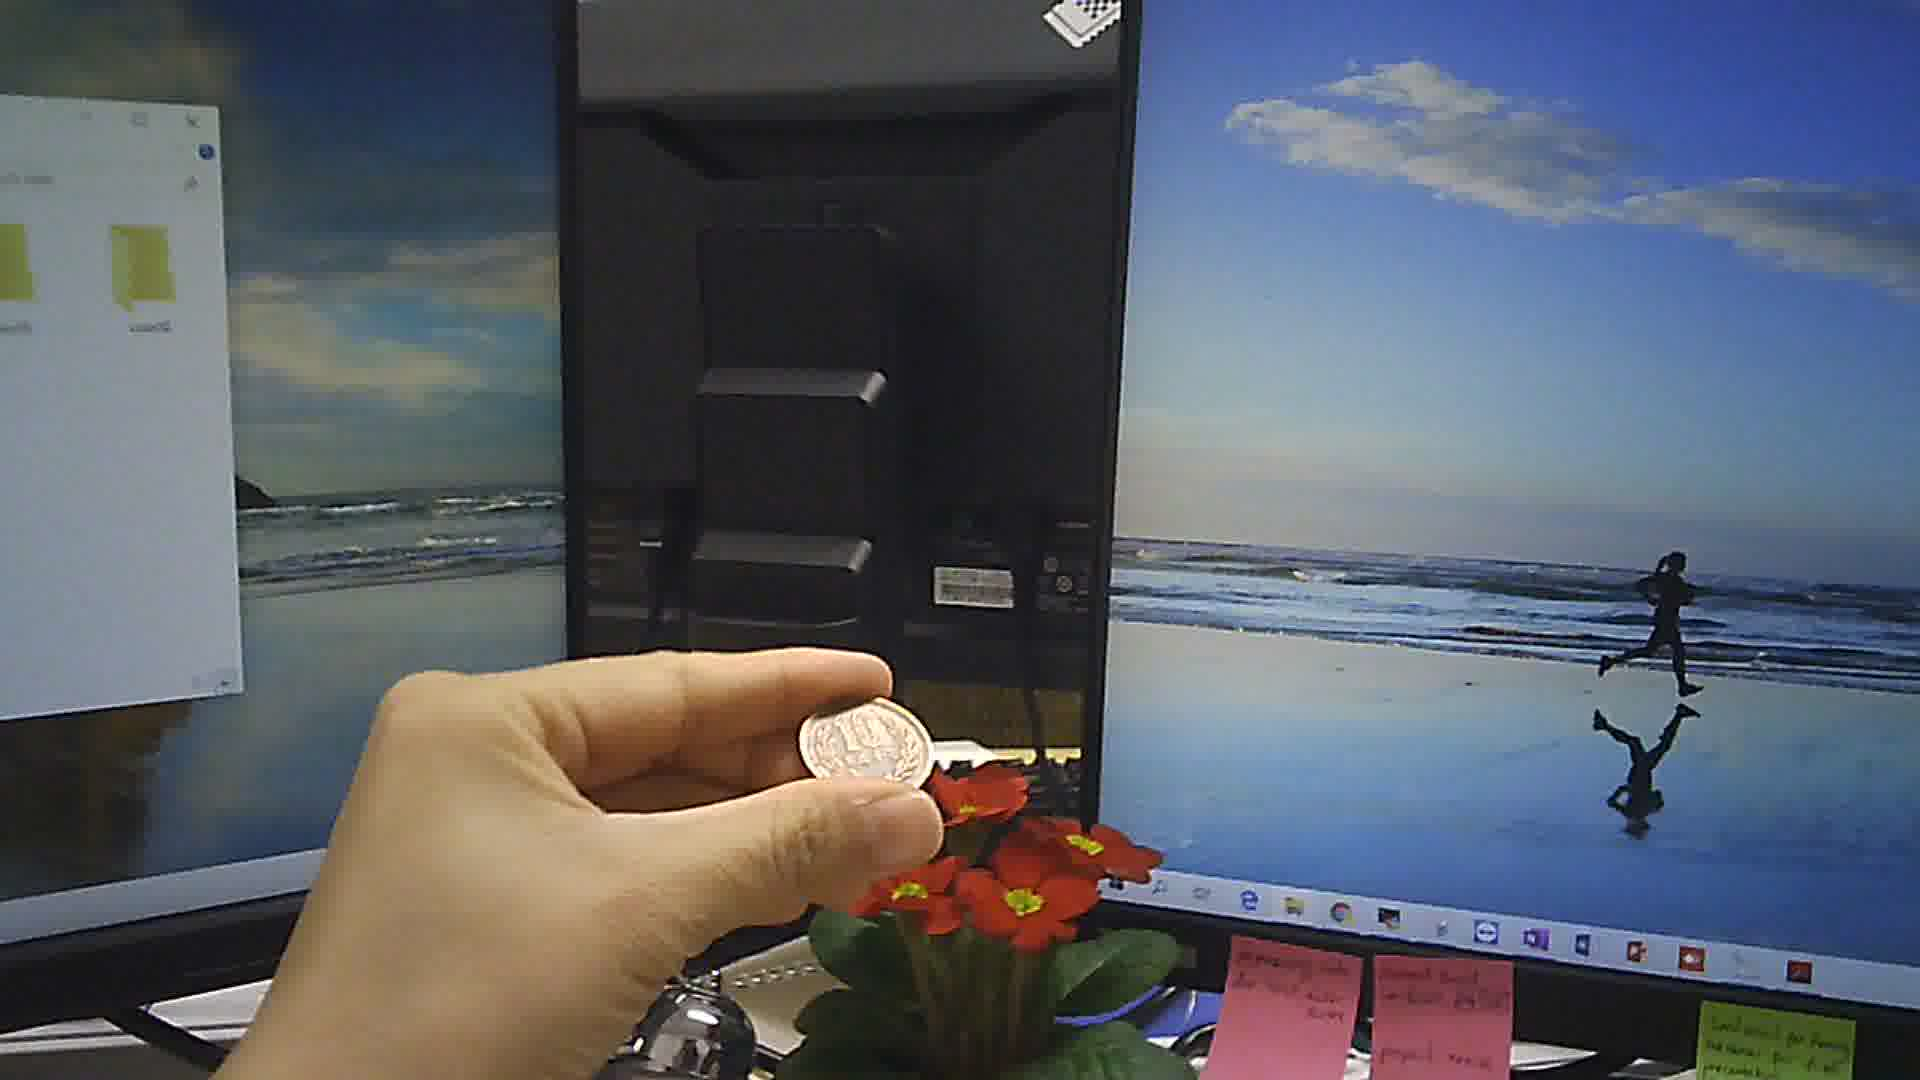10 Yen: (786, 674, 942, 796)
